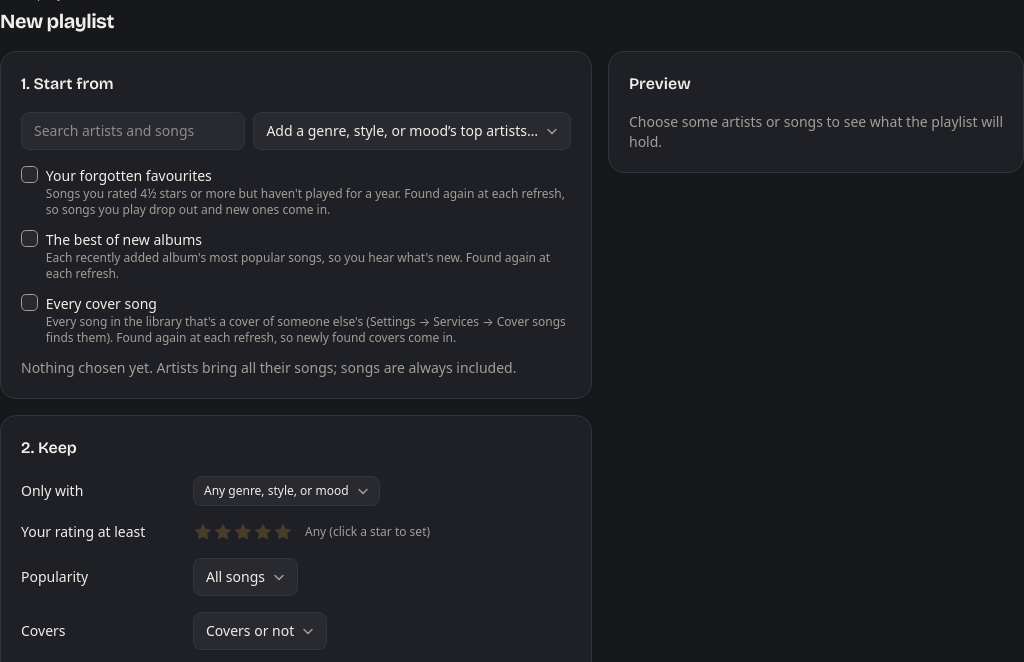
Test case: Playlists › makes a playlist of every cover, with no artist chosen
The image size is (1024, 662).
Later steps or results of the test are not shown.
Click the checkbox labelled "Every cover song" at (29,302), box [21,294,38,311]
(page scrolled)
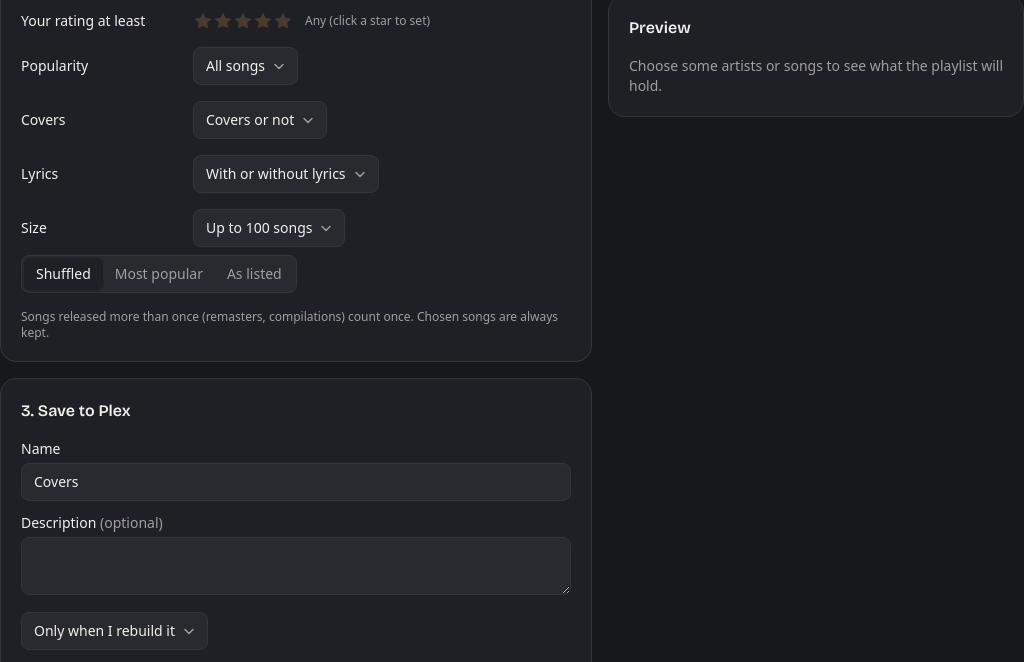
Now the field showing "Covers" is shown, box [21,463,571,501]
